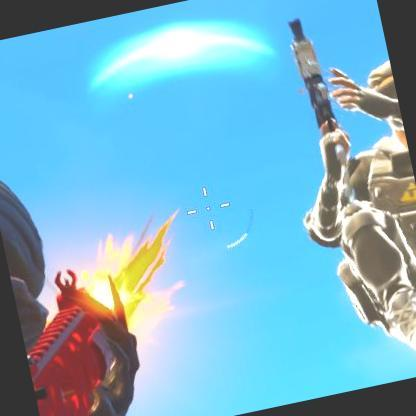person: (299, 73, 416, 376)
